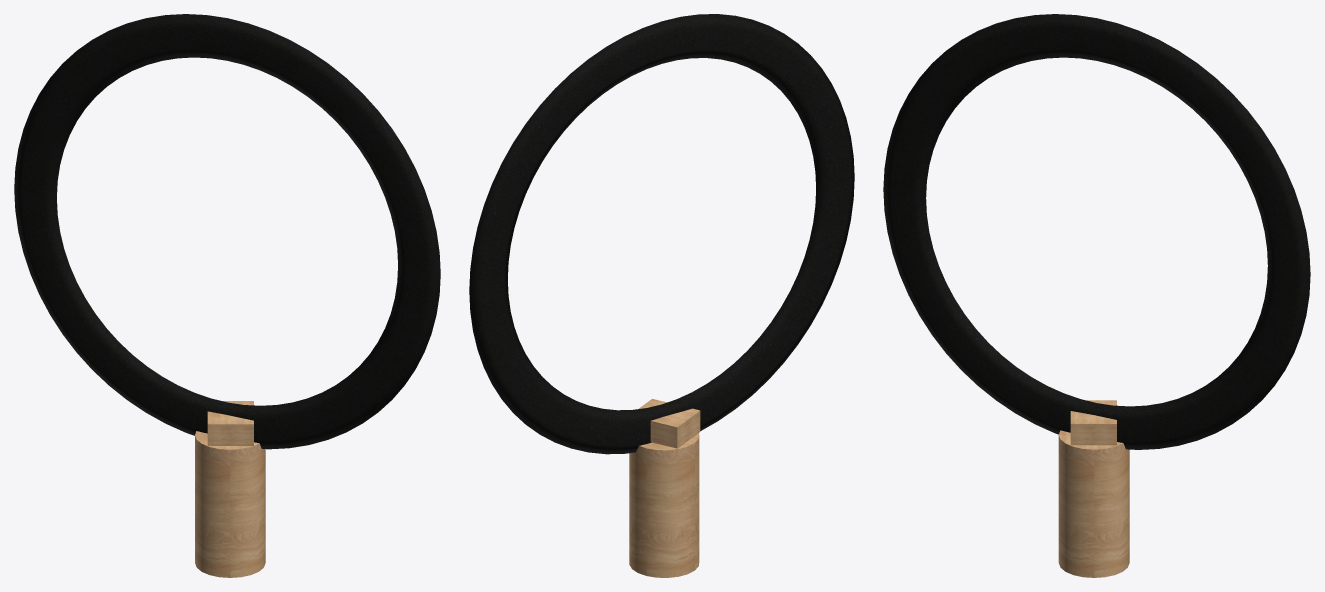
The model's file is Training Hoop (1).fbx.
3 views of the same model, side by side, from view 1: azimuth 90°, elevation 25°; view 2: azimuth 150°, elevation 25°; view 3: azimuth 270°, elevation 25° (orthographic).
Parts seen in each view (by area): view 1: Torus__1_, Cylinder, Cube; view 2: Torus__1_, Cylinder, Cube; view 3: Torus__1_, Cylinder, Cube.
Part boxes in pixels (bbox=[...]): Torus__1_: bbox=[14, 14, 440, 449]; Cylinder: bbox=[195, 431, 265, 577]; Cube: bbox=[207, 401, 253, 445]; Torus__1_: bbox=[469, 14, 854, 454]; Cylinder: bbox=[629, 433, 699, 577]; Cube: bbox=[639, 399, 700, 448]; Torus__1_: bbox=[883, 14, 1310, 449]; Cylinder: bbox=[1058, 430, 1129, 577]; Cube: bbox=[1070, 400, 1116, 445].
Bounding box in the file's own units: 862 × 2550 × 1810.
